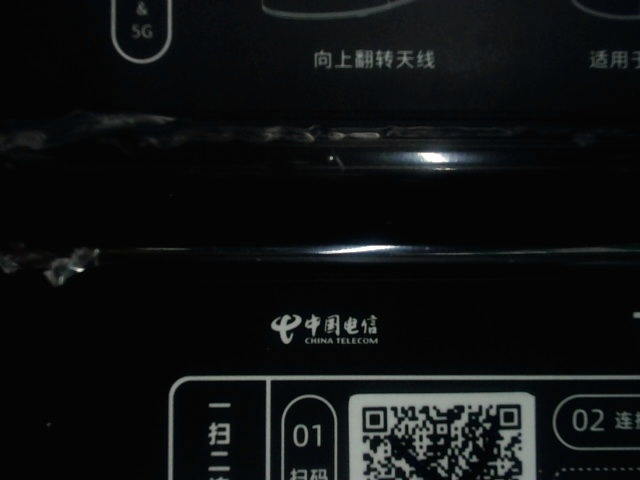AB_ChinaTelecom: (264, 313, 388, 350)
